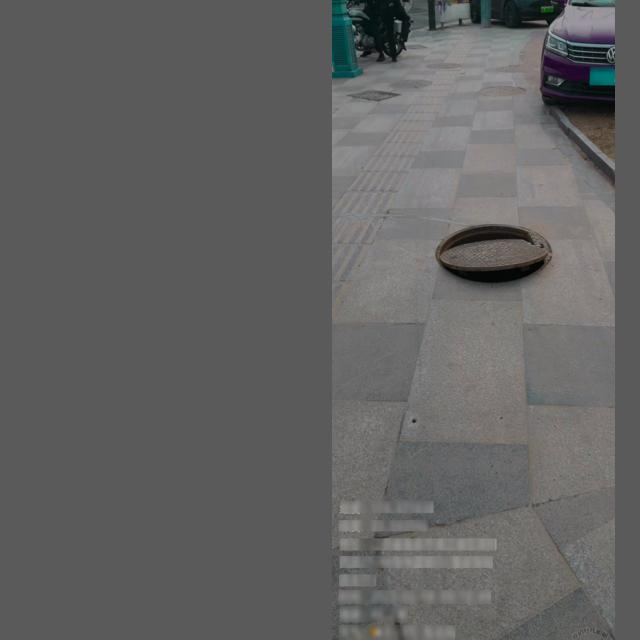uncovered: (435, 224, 553, 287)
